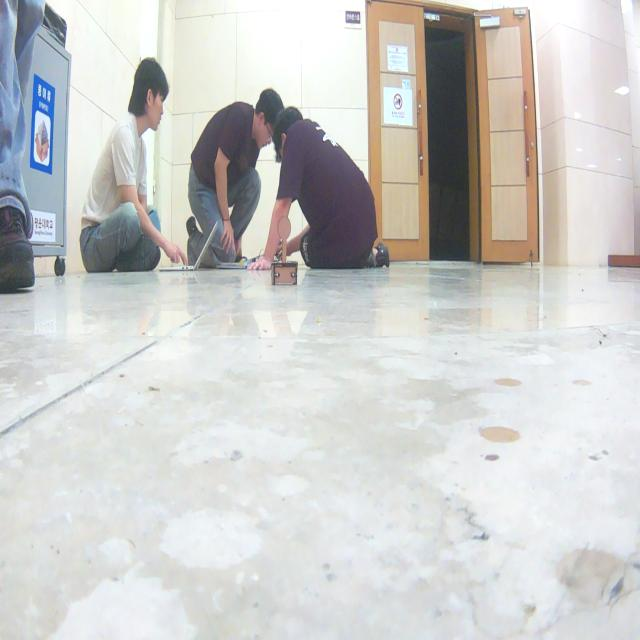target: (271, 217, 298, 286)
